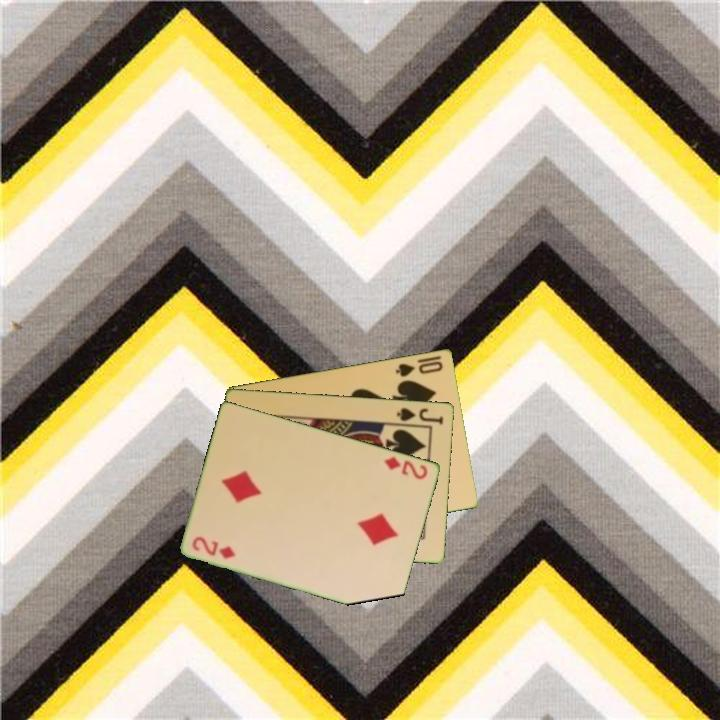10s: (392, 357, 446, 379)
2d: (381, 453, 431, 482), (189, 533, 239, 562)
Js: (393, 404, 446, 427)
